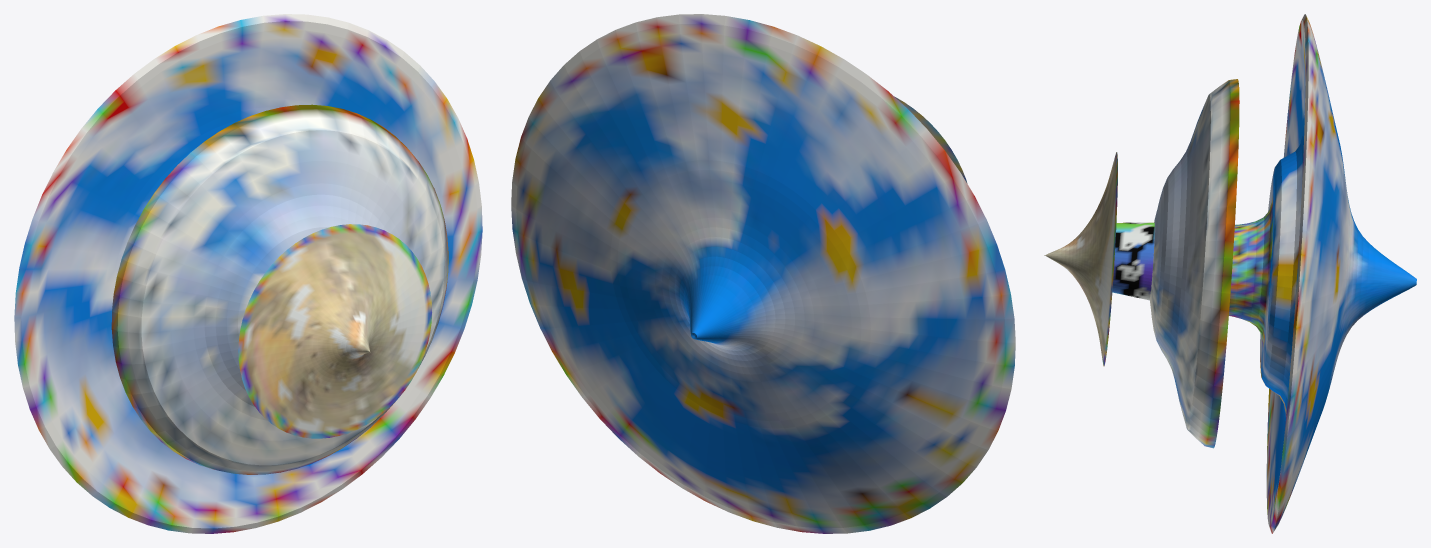
File: april28outdoorpagoda15.glb
3 views of the same model, side by side, from view 1: azimuth 30°, elevation 25°; view 2: azimuth 150°, elevation 25°; view 3: azimuth 270°, elevation 25° (orthographic). The views are drawn at different scales.
Visible parts, largest first — view 1: Lathe 4, Lathe 3, Lathe; view 2: Lathe 4, Lathe; view 3: Lathe 4, Lathe 3, Lathe, Lathe.001.
Part boxes in pixels (box(x1,y1,x2,y2)): Lathe 4: box(14, 14, 482, 533); Lathe 3: box(111, 104, 448, 474); Lathe: box(238, 224, 431, 438); Lathe 4: box(511, 14, 1015, 533); Lathe: box(894, 96, 967, 183); Lathe 4: box(1229, 14, 1416, 533); Lathe 3: box(1149, 79, 1239, 448); Lathe: box(1044, 152, 1117, 366); Lathe.001: box(1112, 222, 1154, 300).
Size of the model in its own units: 3.74 by 3.73 by 2.68.
